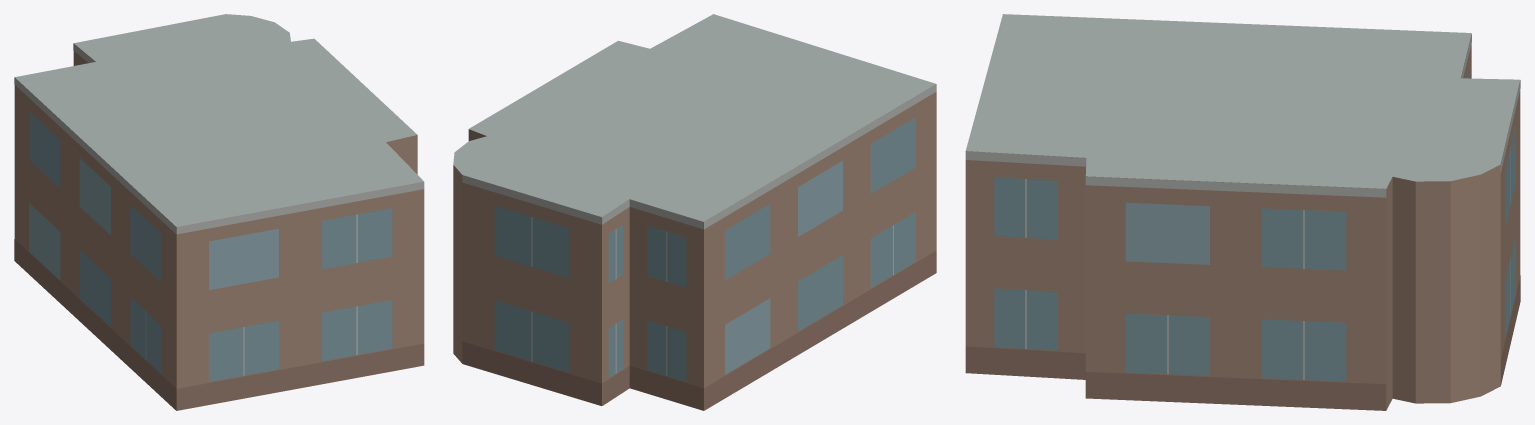
File: survey-upis-32728308.glb
3 renders of one model, left to right at view 1: azimuth 30°, elevation 25°; view 2: azimuth 150°, elevation 25°; view 3: azimuth 270°, elevation 25°, orthographic. The views are drawn at different scales.
Parts seen in each view (by area): view 1: survey-upis-32728308.tmp; view 2: survey-upis-32728308.tmp; view 3: survey-upis-32728308.tmp.
Boxes of the visible parts, <box> form: survey-upis-32728308.tmp: <box>14,14,424,410</box>; survey-upis-32728308.tmp: <box>453,14,936,410</box>; survey-upis-32728308.tmp: <box>965,14,1520,410</box>.
Bounding box in the file's own units: 10.31 × 6.1 × 13.83.
